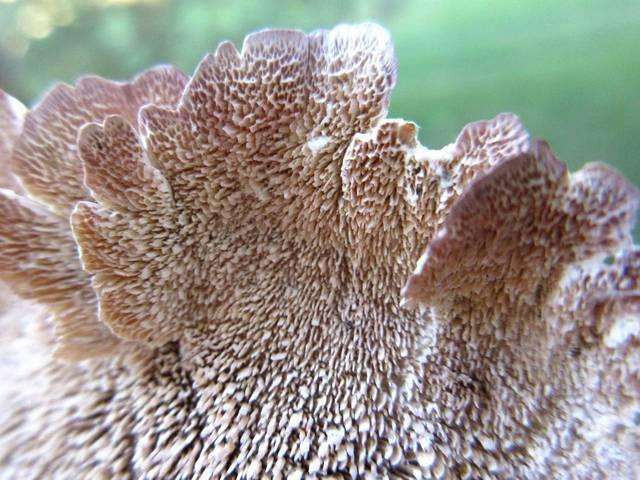poisonous_mushroom: (0, 20, 639, 479)
